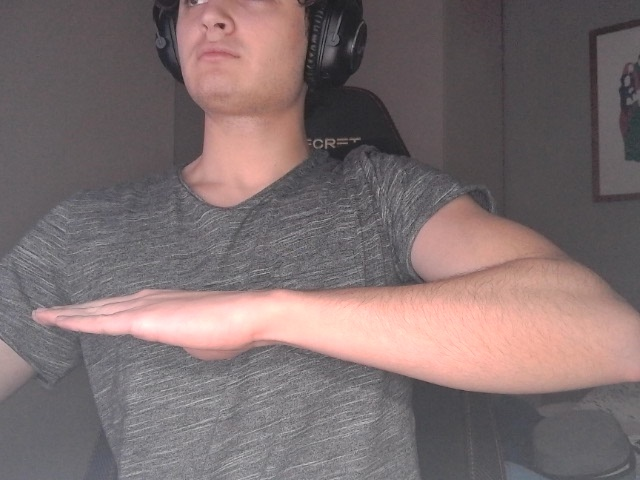space: (27, 252, 640, 404)
